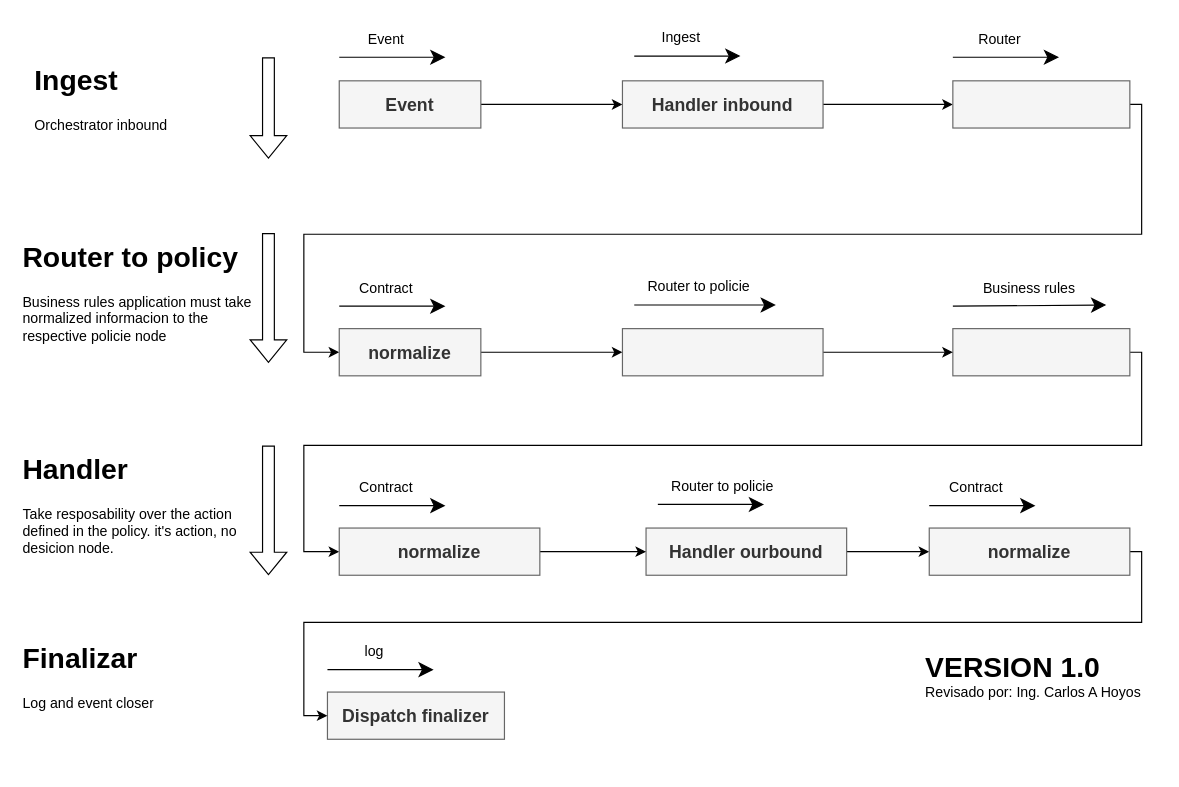
Some shapes in this 1179 by 787 pixel diagram are drawn without their labels. The shapes that lost their labels are listed below. From the top down, each one's centre as x and y in pixels, then its label:
At (x=1041, y=104): "Router Platfform".
At (x=722, y=351): "Router EventType/command".
At (x=1041, y=351): "policie".
